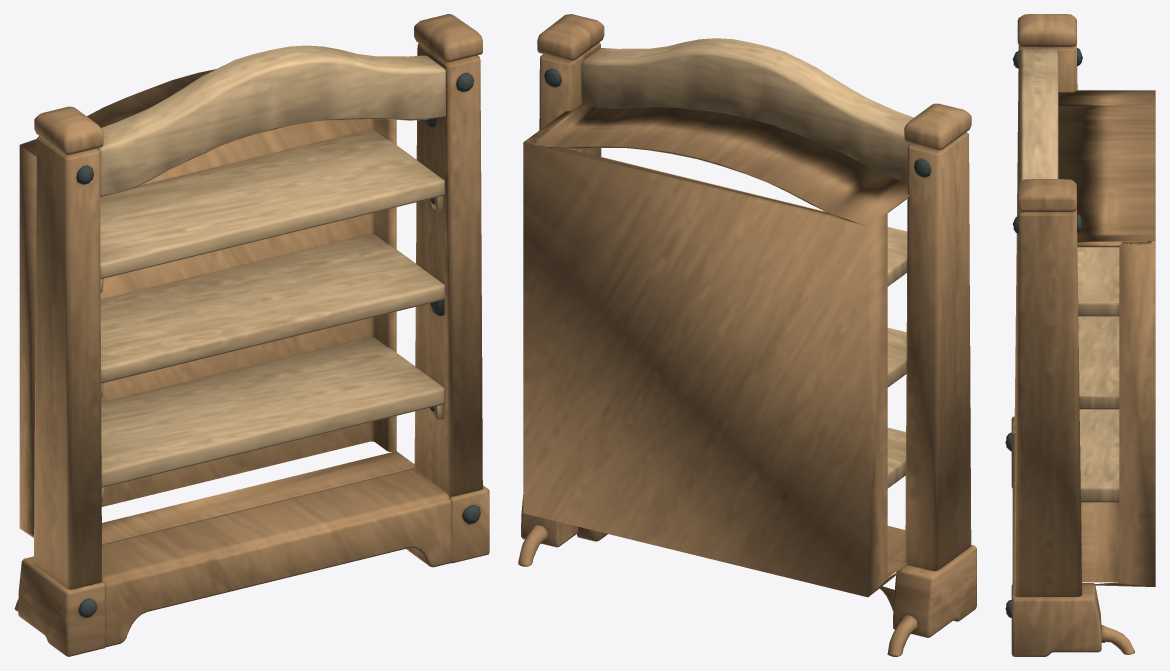
File: bookshelf.glb
The picture shows the model from 3 angles, left to right: view 1: azimuth 30°, elevation 25°; view 2: azimuth 150°, elevation 25°; view 3: azimuth 270°, elevation 25°; orthographic projection. The views are drawn at different scales.
Visible parts, largest first — view 1: bookshelf; view 2: bookshelf; view 3: bookshelf.
Boxes of the visible parts, box(x1,y1,x2,y2) form: bookshelf: box(14, 14, 489, 656); bookshelf: box(518, 14, 976, 656); bookshelf: box(1005, 14, 1155, 656).
Bounding box in the file's own units: 0.8223 × 0.998 × 0.2832.
1 material, 1 textured.
